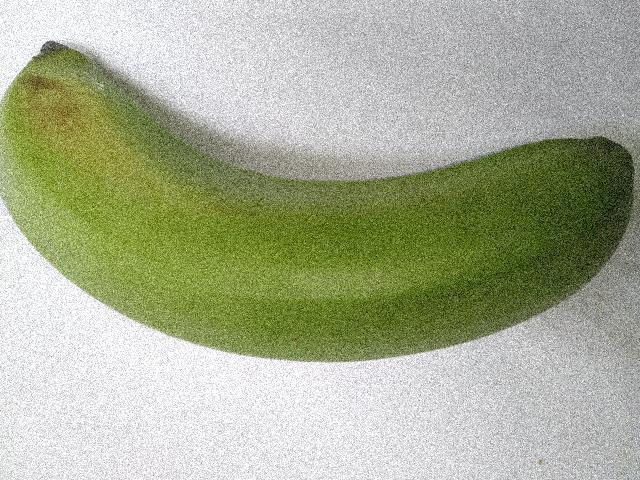freshunripe: (0, 29, 639, 377)
